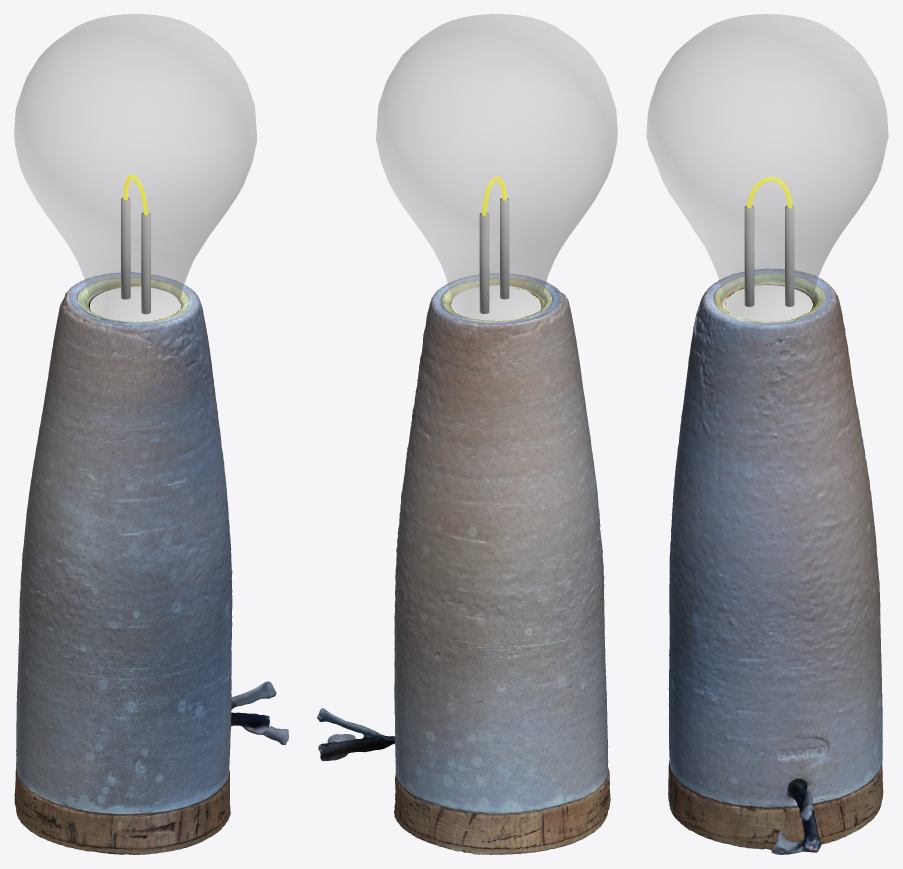
The picture shows the model from 3 angles, left to right: view 1: azimuth 30°, elevation 25°; view 2: azimuth 150°, elevation 25°; view 3: azimuth 270°, elevation 25°; orthographic projection.
Visible parts, largest first — view 1: Mesh_0, Light bulb; view 2: Mesh_0, Light bulb; view 3: Mesh_0, Light bulb.
Boxes of the visible parts, box(x1,y1,x2,y2) form: Mesh_0: box(14, 272, 288, 854); Light bulb: box(14, 14, 256, 321); Mesh_0: box(317, 273, 610, 854); Light bulb: box(376, 14, 617, 321); Mesh_0: box(668, 268, 883, 854); Light bulb: box(646, 14, 888, 321).
Bounding box in the file's own units: 0.1492 × 0.4223 × 0.1182.
Materials: 6 (1 with a texture image).
